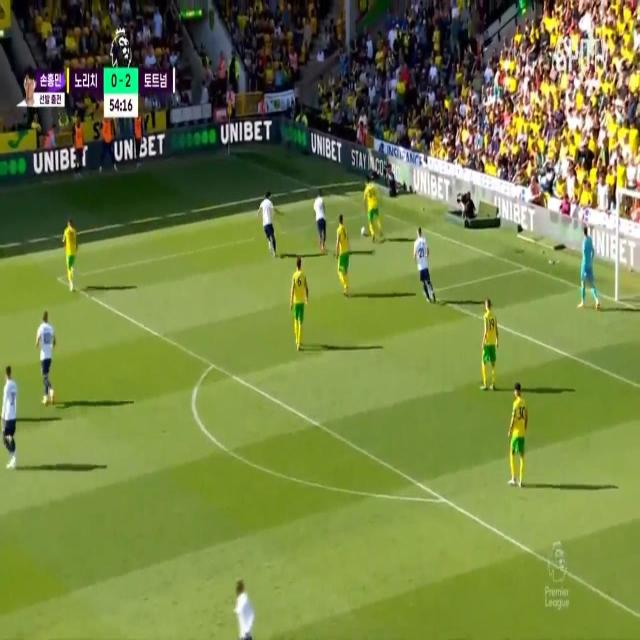ball: (358, 218, 370, 244)
player: (286, 250, 310, 348), (0, 362, 20, 468), (410, 228, 438, 302), (61, 217, 80, 299), (512, 371, 524, 497), (334, 211, 350, 301), (39, 310, 53, 403), (358, 172, 376, 242), (481, 294, 494, 386), (314, 187, 330, 250), (234, 578, 250, 640), (260, 195, 273, 252)
